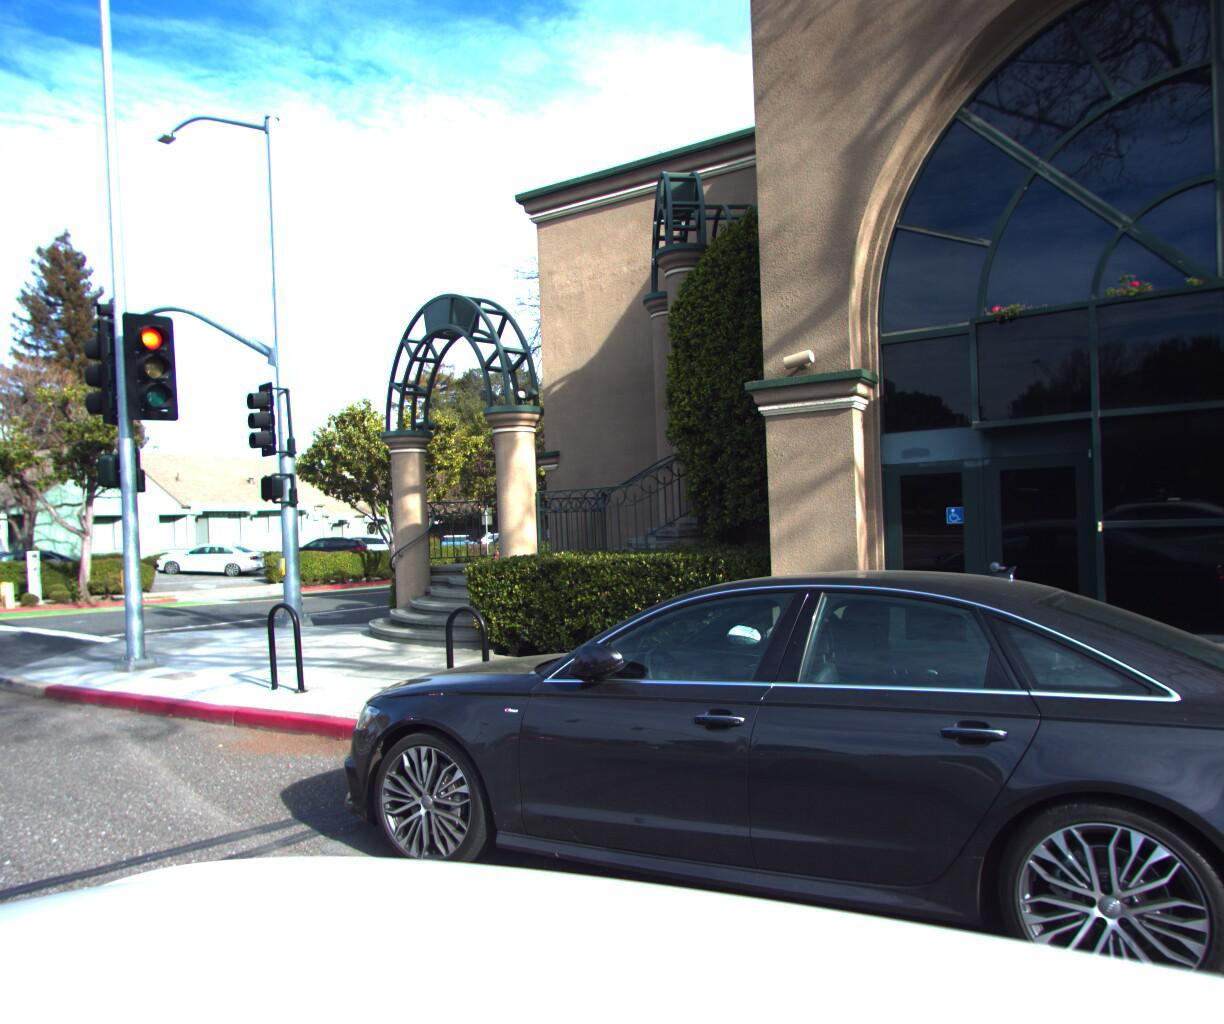car: (246, 541, 1224, 1024), (0, 539, 103, 593), (149, 532, 274, 573), (320, 523, 408, 560), (474, 524, 543, 551), (441, 525, 506, 551)
